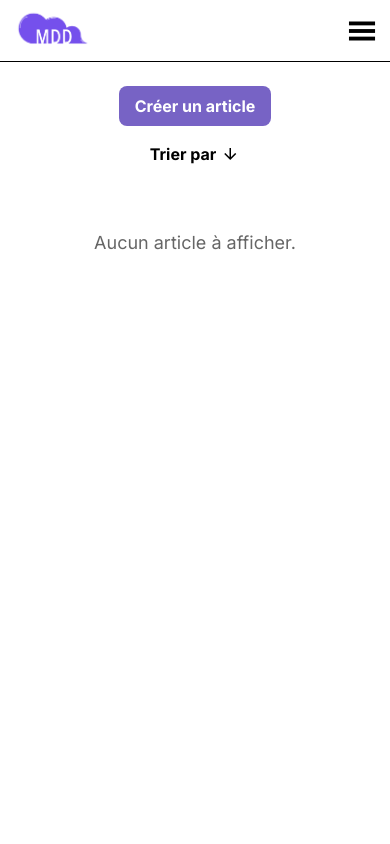
Test case: Navigation mobile › présente le menu de navigation sur un écran mobile
Click the heading named "Ouvrir le menu de navigation": (362, 31) [346, 15, 378, 47]
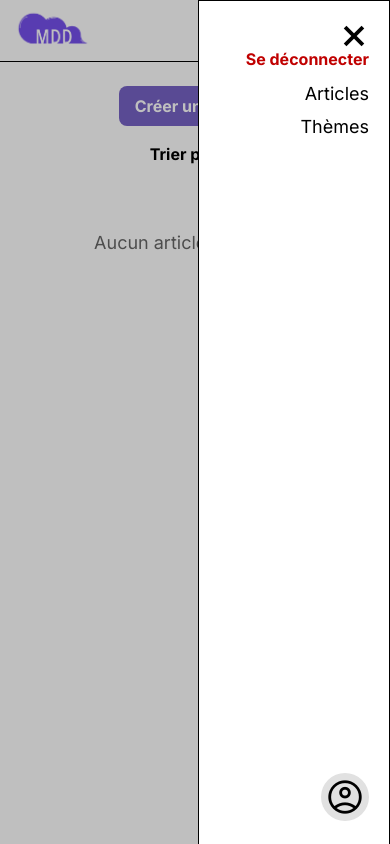
Expected: the element with class "navbar__mobile-panel" is shown, [198, 0, 389, 843]
Expected: the link "Articles" is shown, [305, 83, 369, 104]
Expected: the link "Thèmes" is shown, [300, 116, 369, 137]
